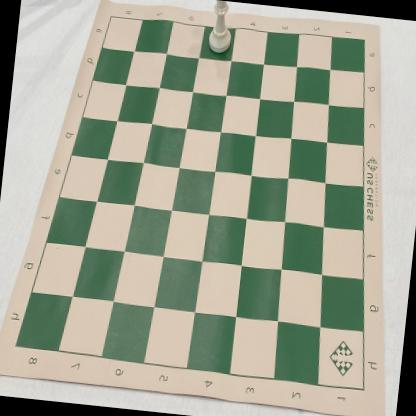white-king: (207, 0, 234, 54)
